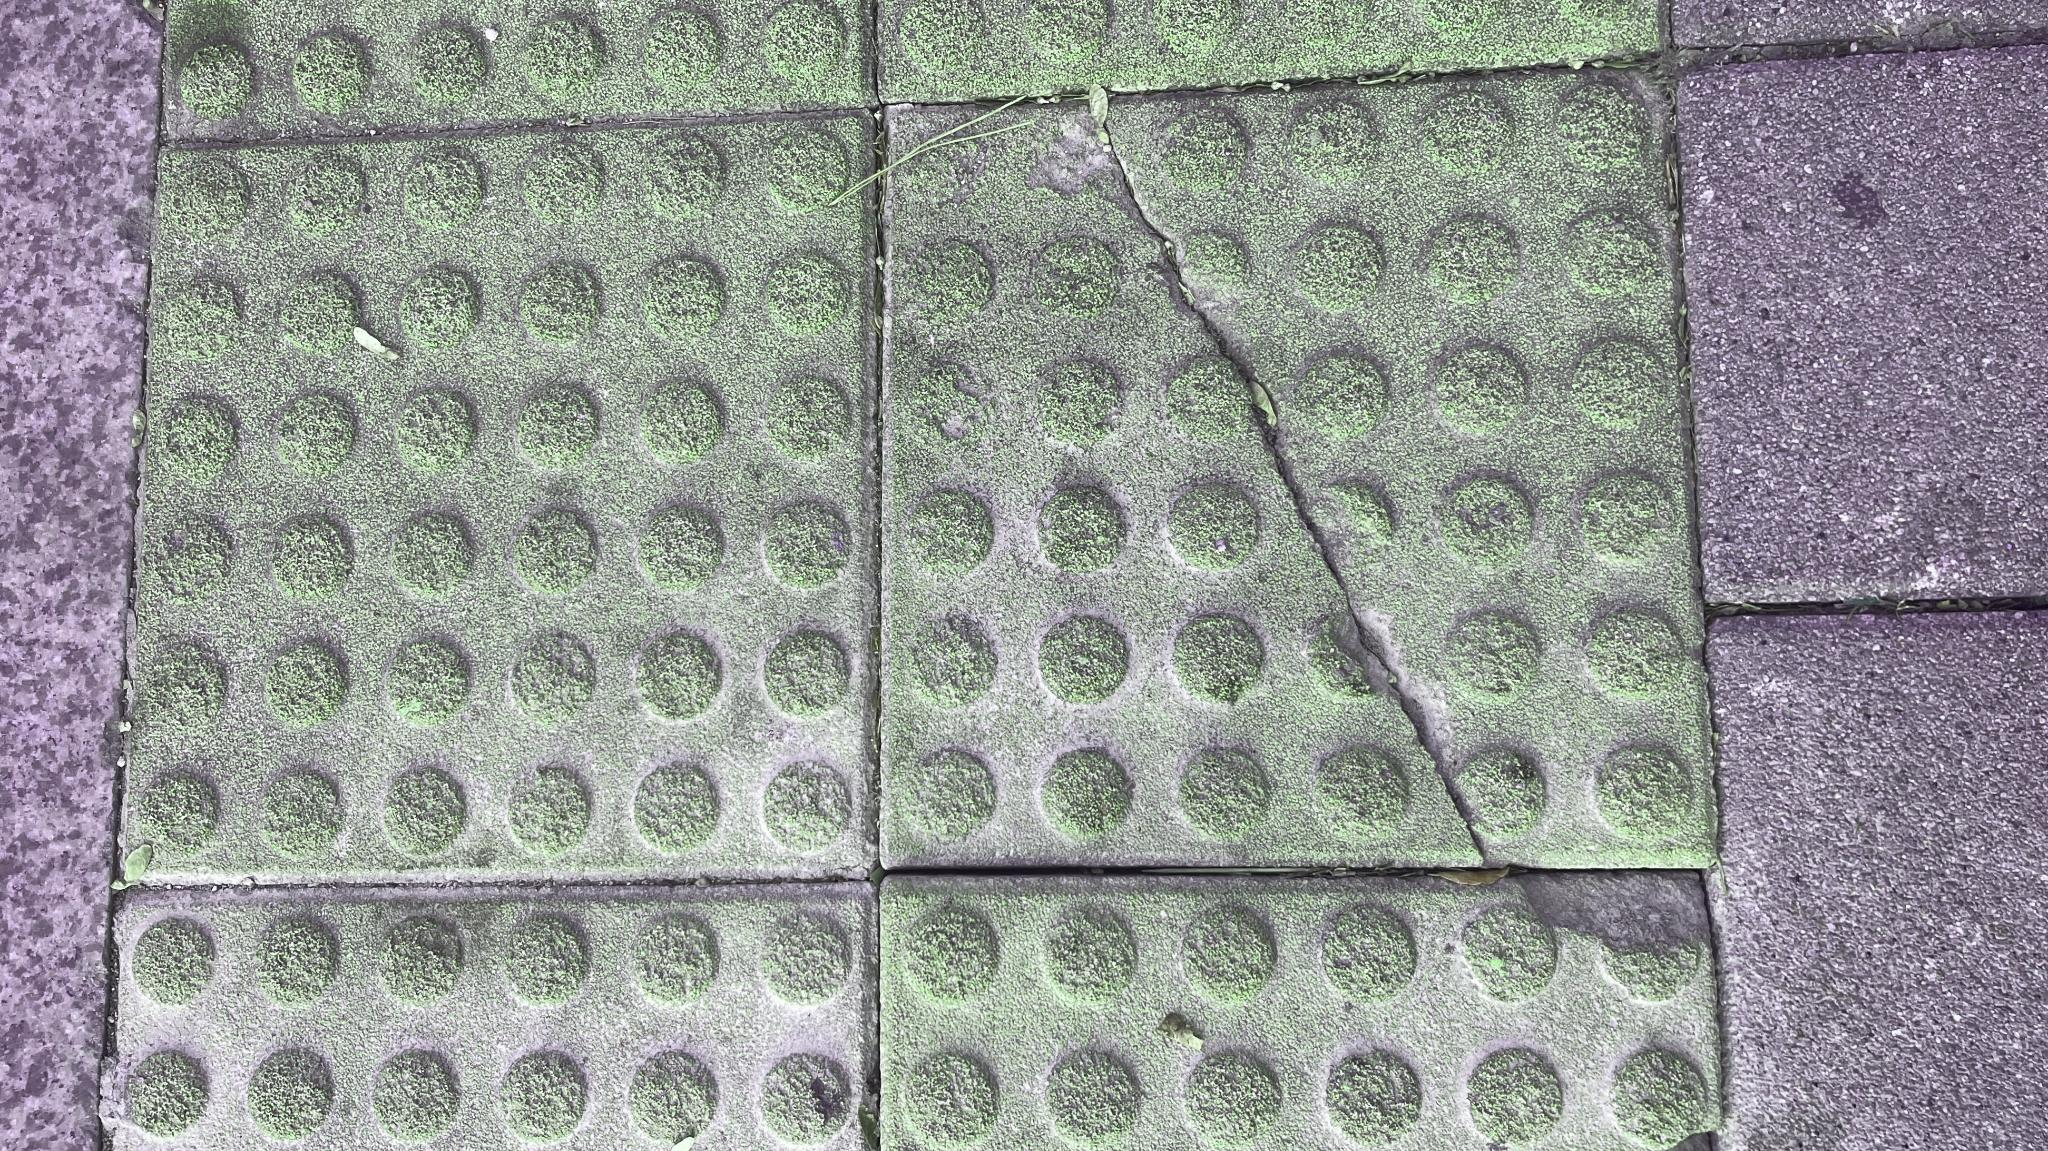Stop block broken: (892, 69, 1709, 858)
Stop block normal: (127, 113, 869, 881)
